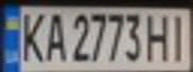2: (66, 9, 90, 63)
3: (121, 10, 148, 63)
7: (87, 10, 109, 62), (106, 9, 127, 62)
A: (42, 9, 69, 63)
H: (142, 10, 175, 63)
I: (166, 10, 193, 62)
K: (15, 8, 48, 63)
